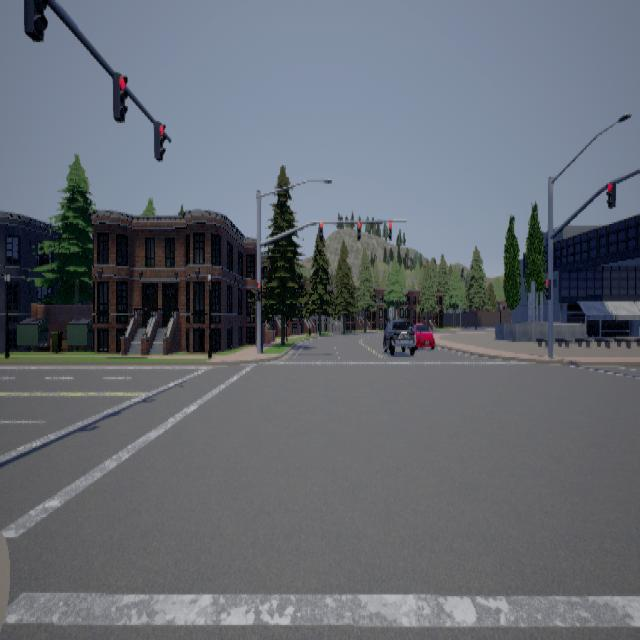red_light: (114, 71, 129, 121), (155, 120, 167, 160), (607, 180, 617, 207), (546, 278, 552, 298), (358, 220, 362, 240), (258, 282, 262, 300), (320, 221, 324, 239), (390, 219, 392, 239)
traffic_light: (25, 0, 49, 40)
vehicle: (384, 317, 417, 357), (415, 318, 436, 347)
